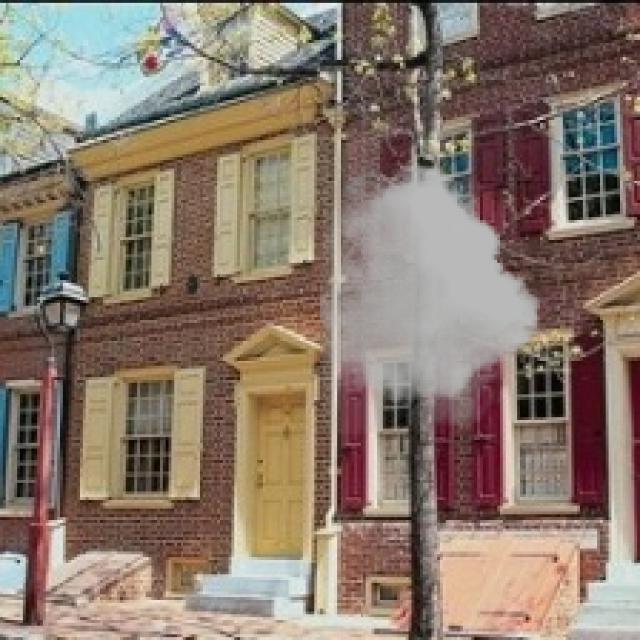Smoke: (320, 160, 540, 434)
